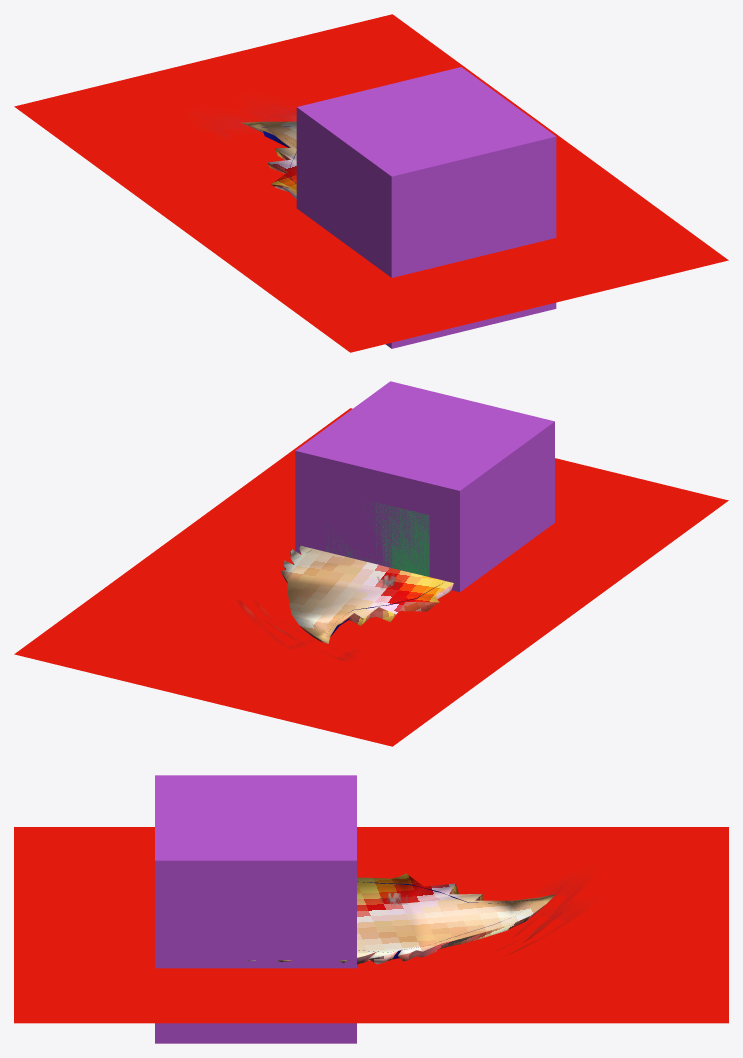
3 views of the same model, one above another, from view 1: azimuth 30°, elevation 25°; view 2: azimuth 150°, elevation 25°; view 3: azimuth 270°, elevation 25° (orthographic). The views are drawn at different scales.
Visible parts, largest first — view 1: "object0054_Editable Poly", object0090_Box, object0005_W712, object0060_Plane22; view 2: "object0054_Editable Poly", object0090_Box, object0005_W712, object0093_Box; view 3: "object0054_Editable Poly", object0090_Box, object0005_W712, object0060_Plane22.
Boxes of the visible parts, box(x1,y1,x2,y2) form: "object0054_Editable Poly": box(14, 14, 728, 352); object0090_Box: box(296, 67, 556, 348); object0005_W712: box(241, 121, 296, 198); object0060_Plane22: box(198, 103, 296, 135); "object0054_Editable Poly": box(14, 408, 728, 746); object0090_Box: box(295, 381, 554, 592); object0005_W712: box(280, 545, 453, 643); object0093_Box: box(326, 500, 429, 576); "object0054_Editable Poly": box(14, 827, 728, 1023); object0090_Box: box(155, 775, 356, 1043); object0005_W712: box(247, 873, 555, 964); object0060_Plane22: box(510, 879, 585, 953).
Bounding box in the file's own units: 1.33 × 0.5779 × 2.05.
